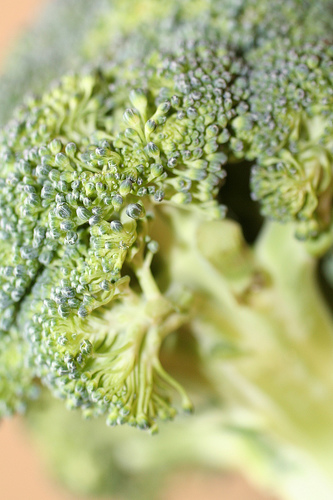broccoli: (0, 0, 331, 463)
